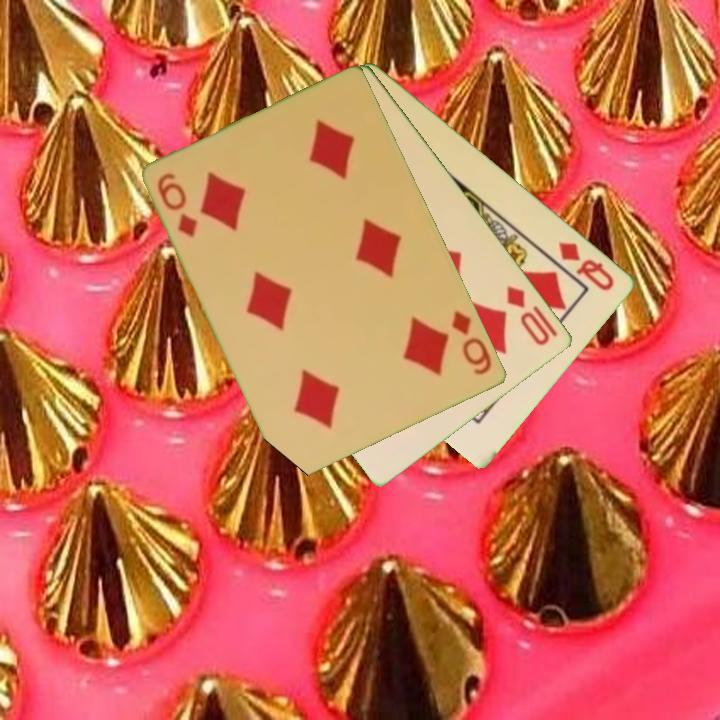10d: (503, 282, 554, 349)
6d: (154, 169, 201, 241), (448, 307, 495, 378)
Qd: (555, 238, 618, 294)
